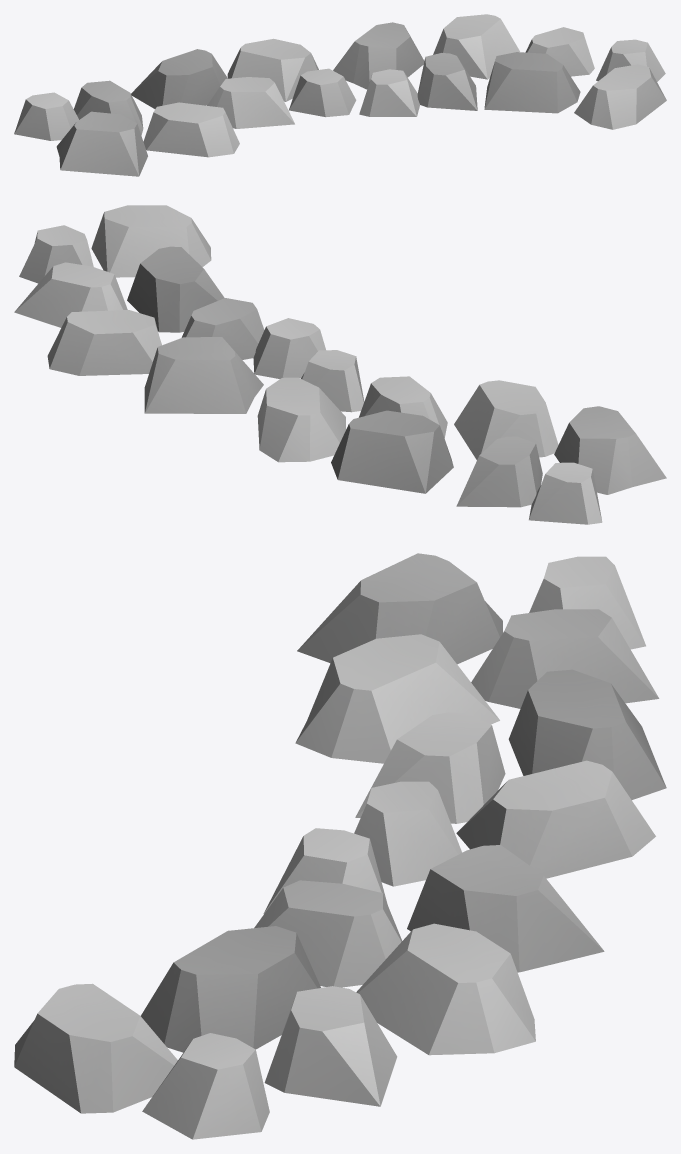
File: StonePath_Curve.fbx
3 views of the same model, one above another, from view 1: azimuth 30°, elevation 25°; view 2: azimuth 150°, elevation 25°; view 3: azimuth 270°, elevation 25° (orthographic). The views are drawn at different scales.
Visible parts, largest first — view 1: StonePath_Curve; view 2: StonePath_Curve; view 3: StonePath_Curve.
Part boxes in pixels (x1,y1,x2,y2): StonePath_Curve: [14, 14, 666, 176]; StonePath_Curve: [14, 205, 666, 524]; StonePath_Curve: [14, 553, 666, 1139].
Bounding box in the file's own units: 8.03 × 0.4673 × 4.1.
